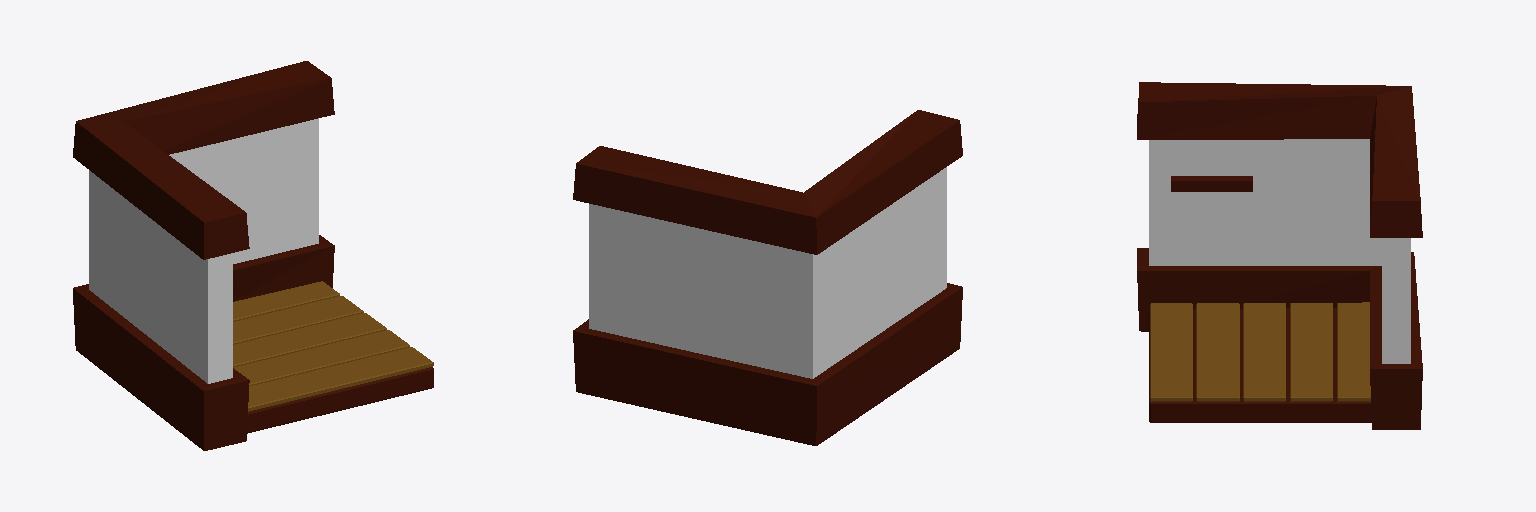
The model's file is stanzetta.obj.
3 renders of one model, left to right at view 1: azimuth 30°, elevation 25°; view 2: azimuth 150°, elevation 25°; view 3: azimuth 270°, elevation 25°, orthographic.
Visible parts, largest first — view 1: Cube_Cube.001, Plane.001, Plane; view 2: Cube_Cube.001; view 3: Cube_Cube.001, Plane.001, Plane.
Part boxes in pixels (left/top/right/bottom): Cube_Cube.001: left=73, top=61, right=334, bottom=450; Plane.001: left=233, top=281, right=433, bottom=411; Plane: left=247, top=367, right=433, bottom=433; Cube_Cube.001: left=573, top=110, right=962, bottom=445; Cube_Cube.001: left=1137, top=82, right=1422, bottom=429; Plane.001: left=1150, top=302, right=1370, bottom=401; Plane: left=1149, top=308, right=1371, bottom=422.
Bounding box in the file's own units: 9.82 × 9.06 × 9.82.